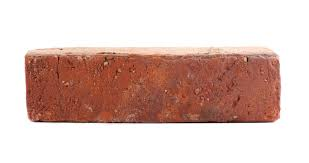brick: (25, 54, 281, 123)
